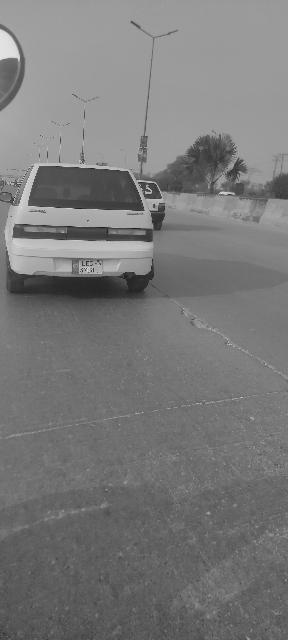Number: (79, 260, 94, 274)
